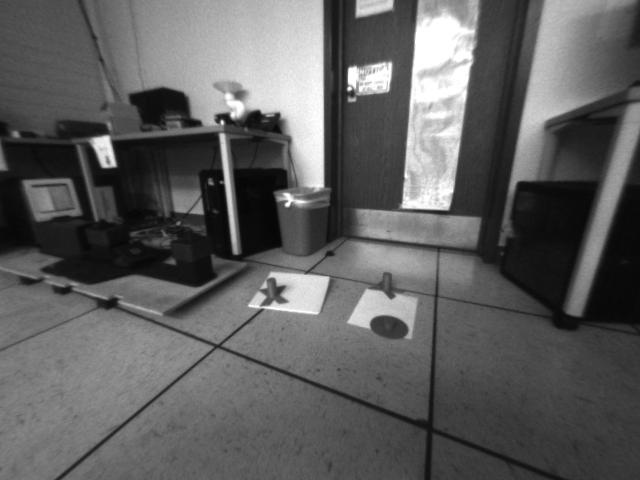X: (258, 275, 290, 310), (370, 271, 403, 298)
